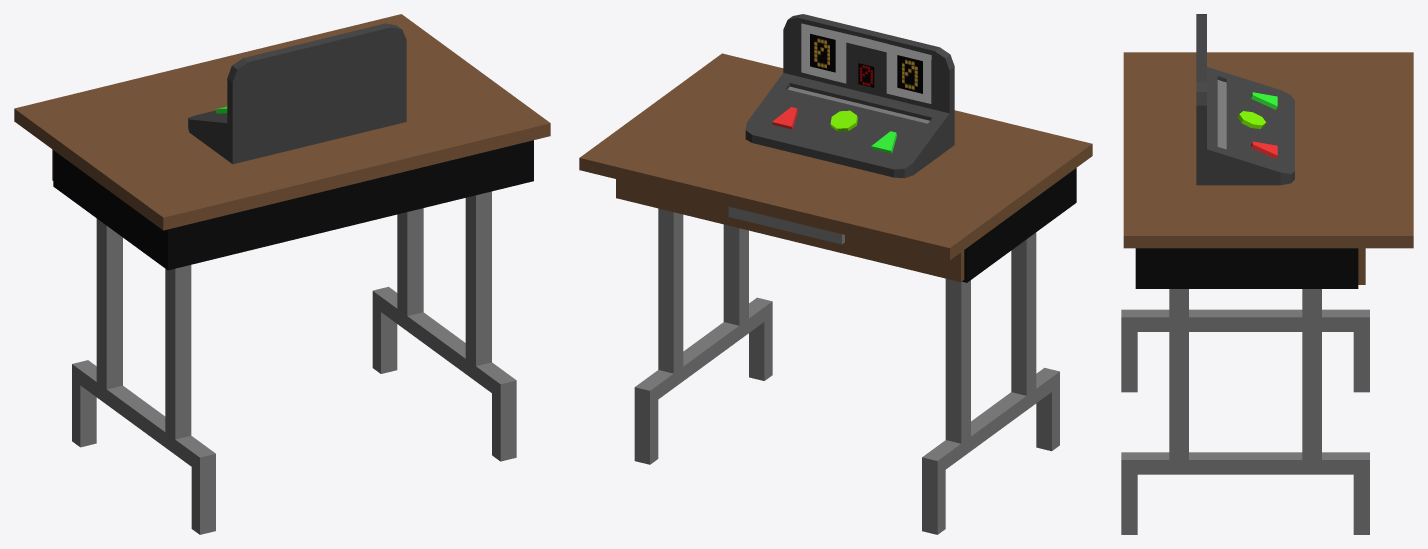
File: Int_GymTable01.fbx
The picture shows the model from 3 angles, left to right: view 1: azimuth 30°, elevation 25°; view 2: azimuth 150°, elevation 25°; view 3: azimuth 270°, elevation 25°; orthographic projection. The views are drawn at different scales.
Parts seen in each view (by area): view 1: Int_GymTable01; view 2: Int_GymTable01; view 3: Int_GymTable01.
Part boxes in pixels (box(x1,y1,x2,y2)): Int_GymTable01: box(14, 14, 550, 534); Int_GymTable01: box(579, 14, 1092, 534); Int_GymTable01: box(1121, 14, 1413, 534).
Size of what is drawn, in the model's own units: 122 by 82.29 by 128.
